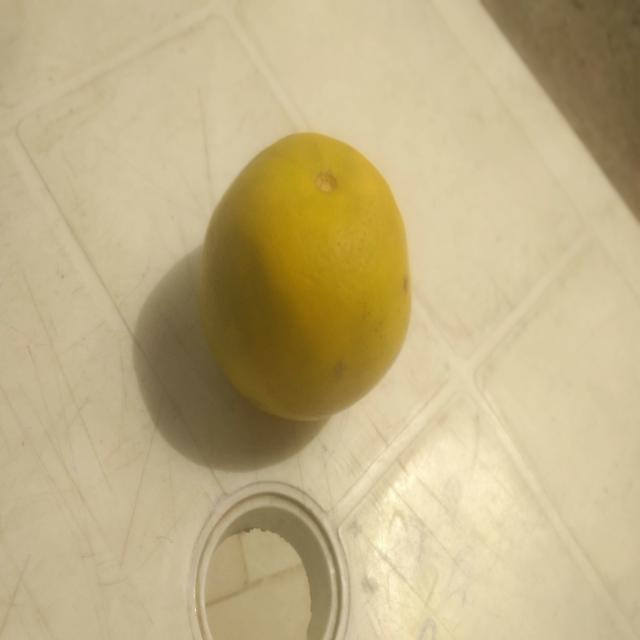Ripe orange: (205, 128, 414, 425)
